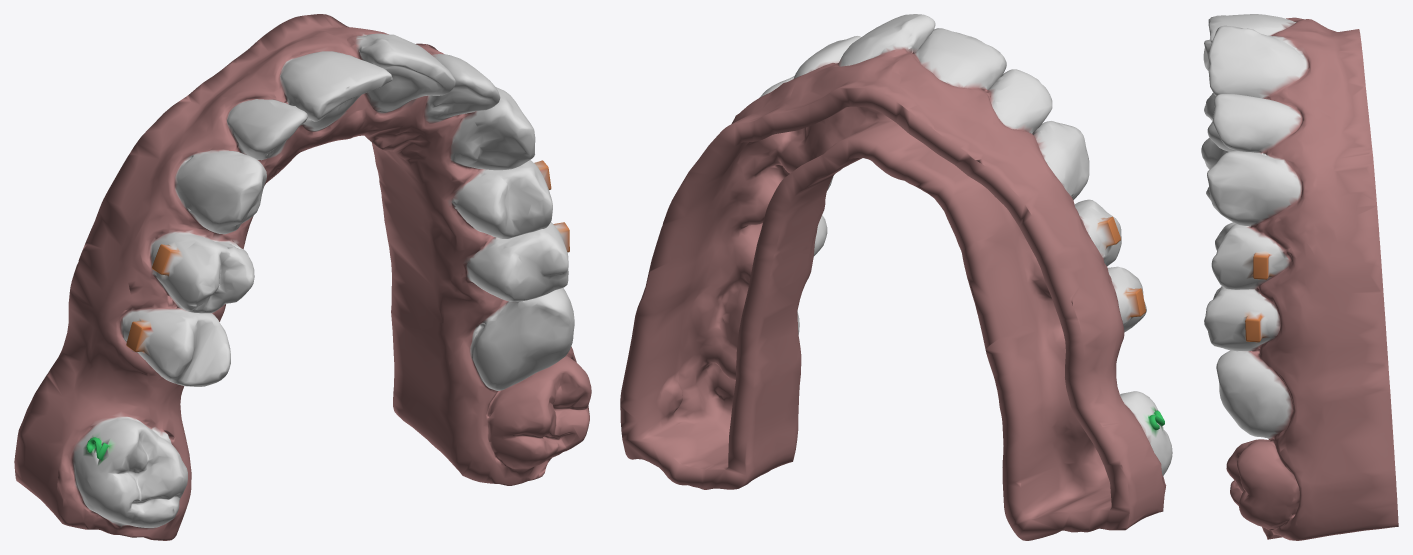
Rendered from upper-model-2.glb.
The picture shows the model from 3 angles, left to right: view 1: azimuth 30°, elevation 25°; view 2: azimuth 150°, elevation 25°; view 3: azimuth 270°, elevation 25°; orthographic projection. The views are drawn at different scales.
Parts seen in each view (by area): view 1: 2; view 2: 2; view 3: 2.
Boxes of the visible parts, <box> form: 2: <box>14,14,591,540</box>; 2: <box>620,14,1172,540</box>; 2: <box>1201,14,1398,540</box>.
Bounding box in the file's own units: 56.9 × 50.25 × 20.53.
